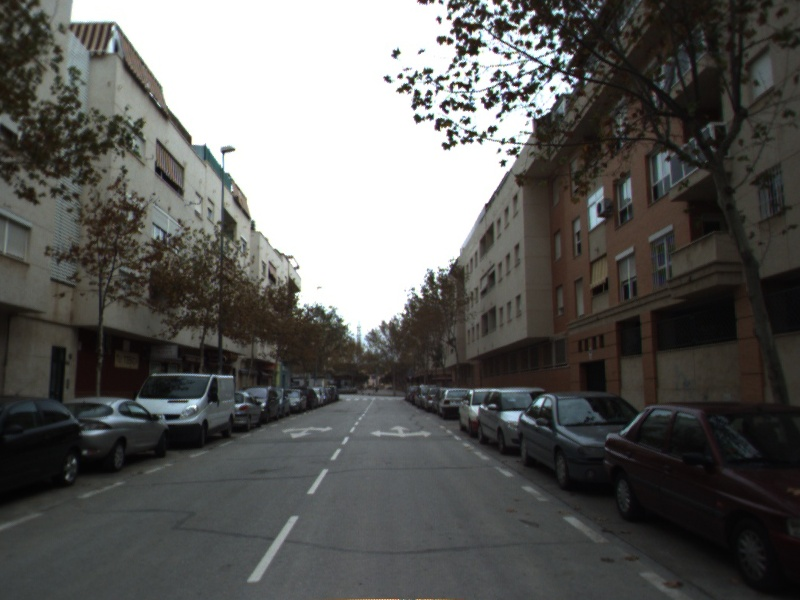STRAIGHT_LEFT_RIGHT: (368, 423, 434, 439)
